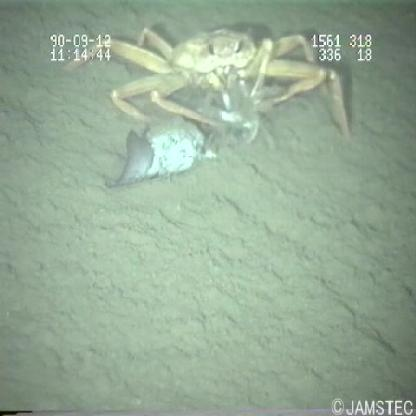Bio: (58, 20, 356, 193)
